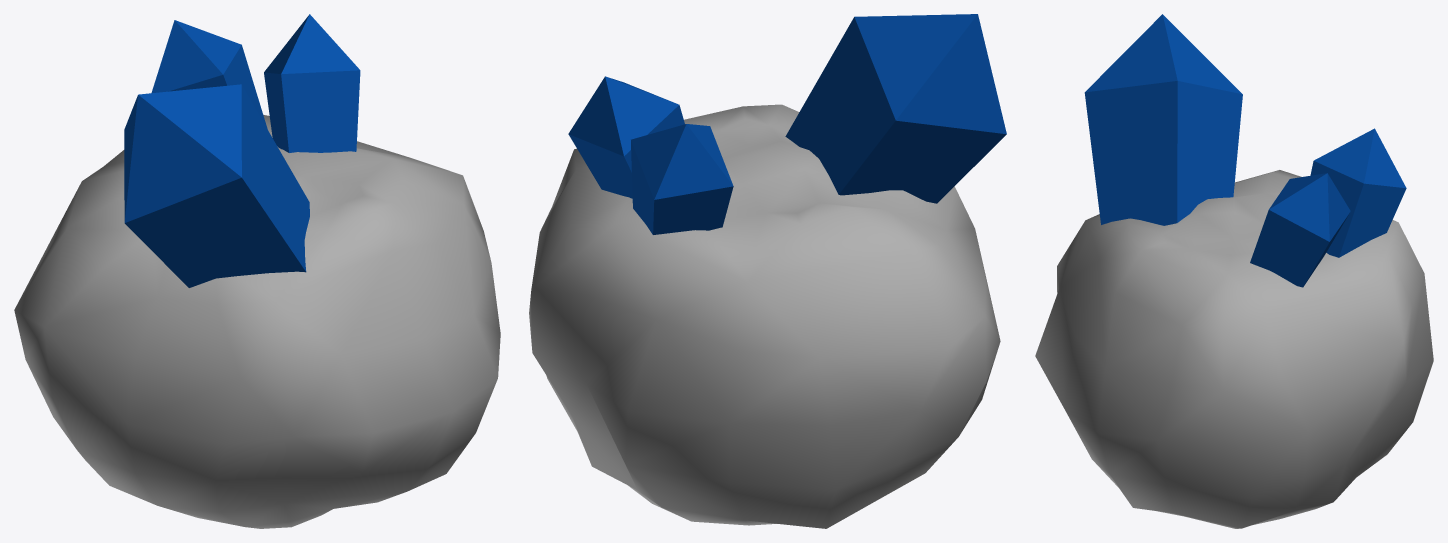
The model's file is Ore.fbx.
The picture shows the model from 3 angles, left to right: view 1: azimuth 30°, elevation 25°; view 2: azimuth 150°, elevation 25°; view 3: azimuth 270°, elevation 25°; orthographic projection. The views are drawn at different scales.
Parts seen in each view (by area): view 1: pCube1, pPyramid3, pPyramid2, pPyramid1; view 2: pCube1, pPyramid3, pPyramid1, pPyramid2; view 3: pCube1, pPyramid3, pPyramid2, pPyramid1.
Part boxes in pixels (left/top/right/bottom): pCube1: left=14, top=115, right=500, bottom=528; pPyramid3: left=124, top=84, right=309, bottom=287; pPyramid2: left=264, top=14, right=360, bottom=152; pPyramid1: left=151, top=20, right=267, bottom=129; pCube1: left=529, top=104, right=1000, bottom=528; pPyramid3: left=785, top=14, right=1006, bottom=203; pPyramid1: left=631, top=124, right=733, bottom=234; pPyramid2: left=568, top=76, right=684, bottom=198; pCube1: left=1035, top=170, right=1433, bottom=528; pPyramid3: left=1084, top=14, right=1242, bottom=225; pPyramid2: left=1250, top=173, right=1350, bottom=287; pPyramid1: left=1310, top=128, right=1406, bottom=257.
Size of the model in its own units: 18.81 by 19.93 by 17.65.
